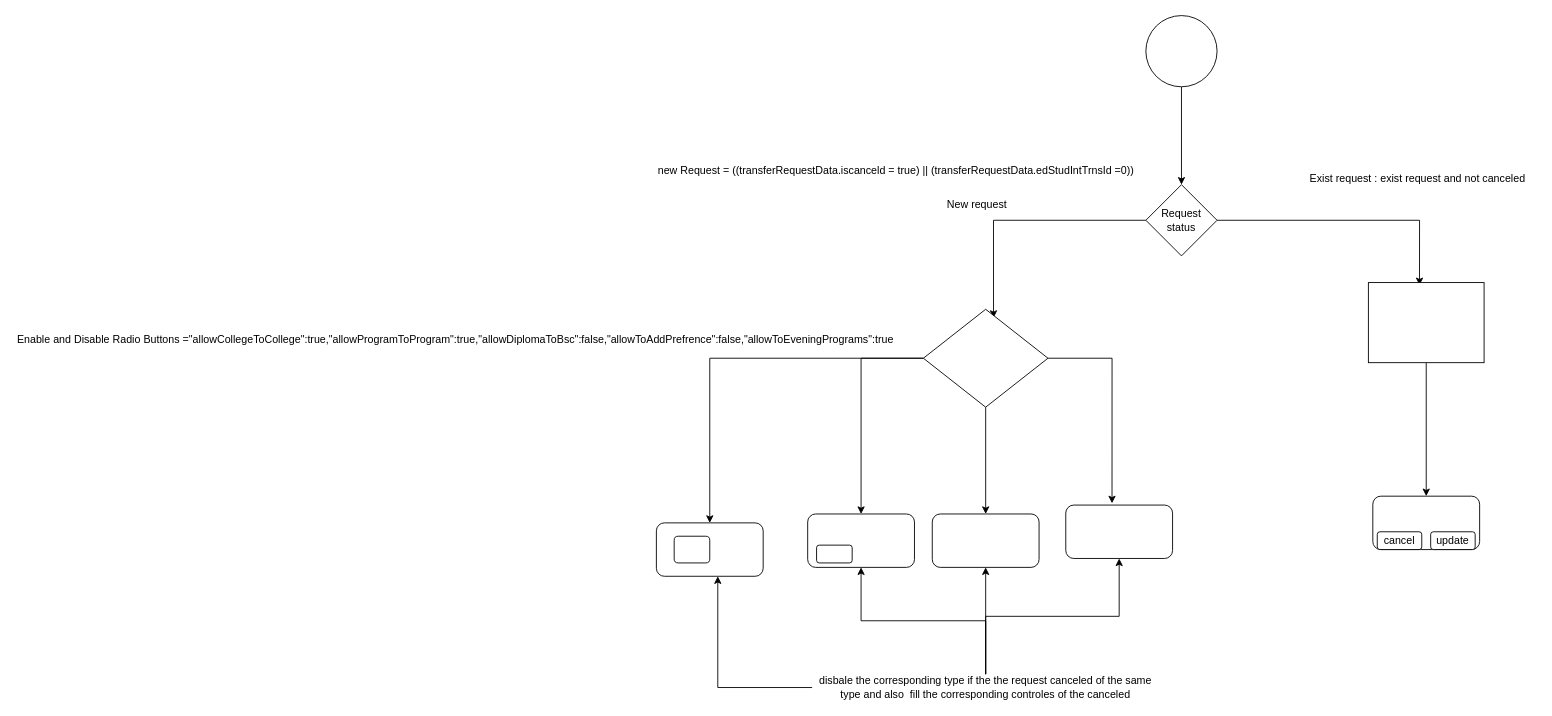
Some shapes in this 1552 by 716 pixel diagram are drawn without their labels. The centre of each missing label's shape, as x and y in pixels:
disable all radio buttons except the request button ccording to request type: the point at 1425,322
show which radio buttons: the point at 985,357
